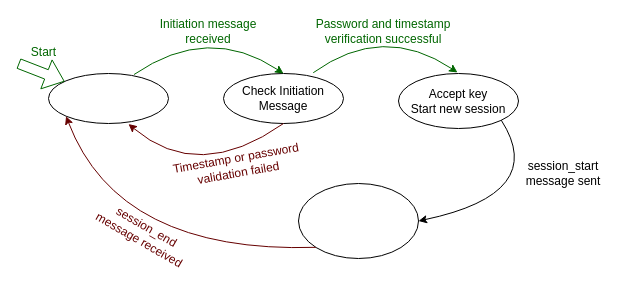
Image size: 636x292. Some labels were removed from this diagram. Each missing label, with the box of its shape:
In Session (FAST Tunnel Protocol): (298, 182, 418, 258)
Wait for Initiation: (48, 72, 168, 124)
